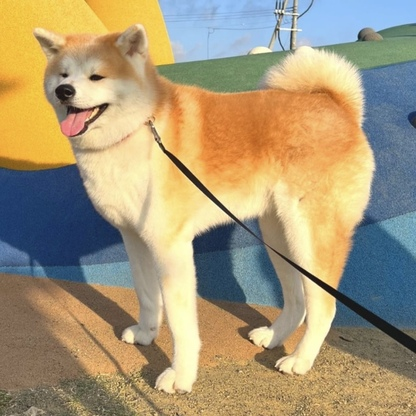akita: (29, 22, 383, 398)
